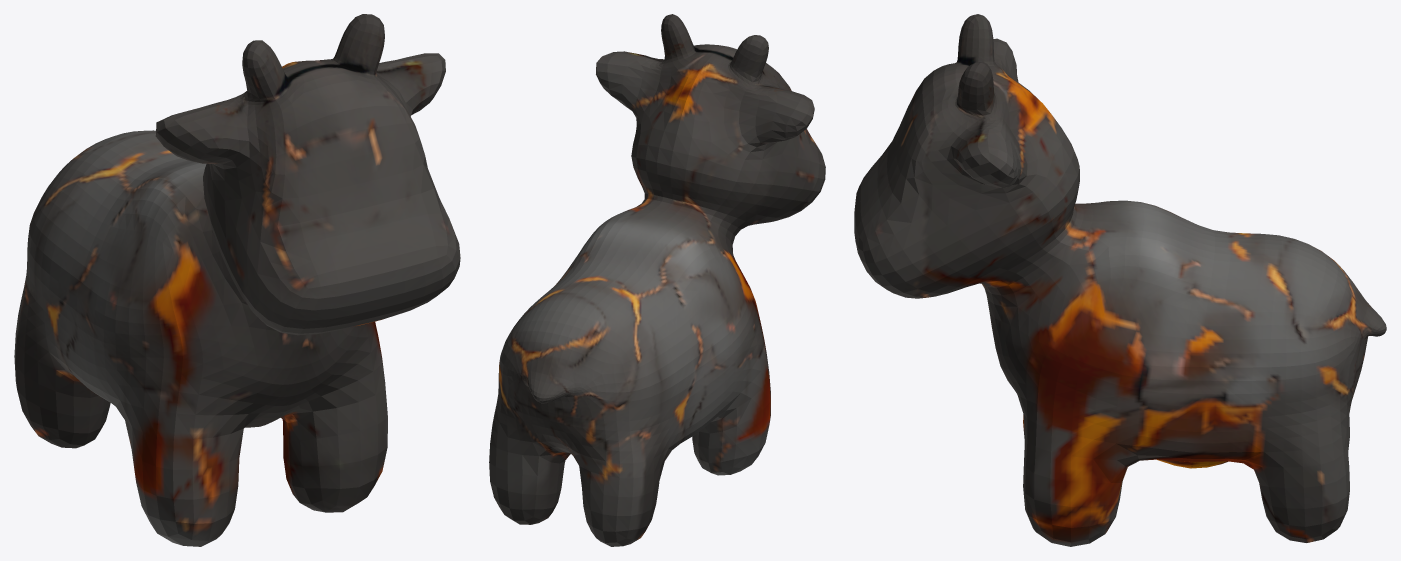
Rendered from frozen_t2.glb.
3 renders of one model, left to right at view 1: azimuth 30°, elevation 25°; view 2: azimuth 150°, elevation 25°; view 3: azimuth 270°, elevation 25°, orthographic. The views are drawn at different scales.
Parts seen in each view (by area): view 1: geometry_0; view 2: geometry_0; view 3: geometry_0.
Boxes of the visible parts, <box> form: geometry_0: <box>14,14,460,546</box>; geometry_0: <box>489,14,825,546</box>; geometry_0: <box>854,14,1386,546</box>.
Size of the model in its own units: 0.549 by 0.984 by 1.
